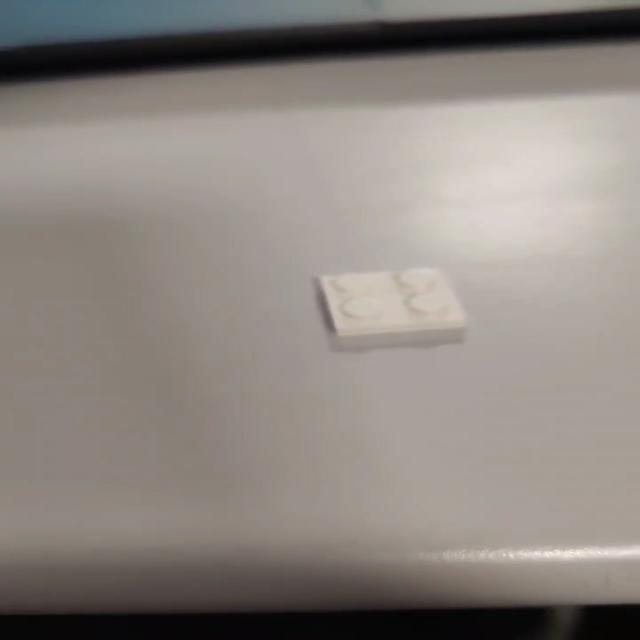C2x2x0: (311, 268, 473, 348)
